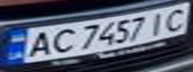4: (96, 19, 121, 47)
5: (112, 16, 136, 44)
7: (75, 21, 100, 51), (127, 13, 151, 42)
A: (18, 29, 57, 60)
C: (45, 26, 78, 55), (160, 4, 193, 33)
I: (145, 9, 172, 36)
